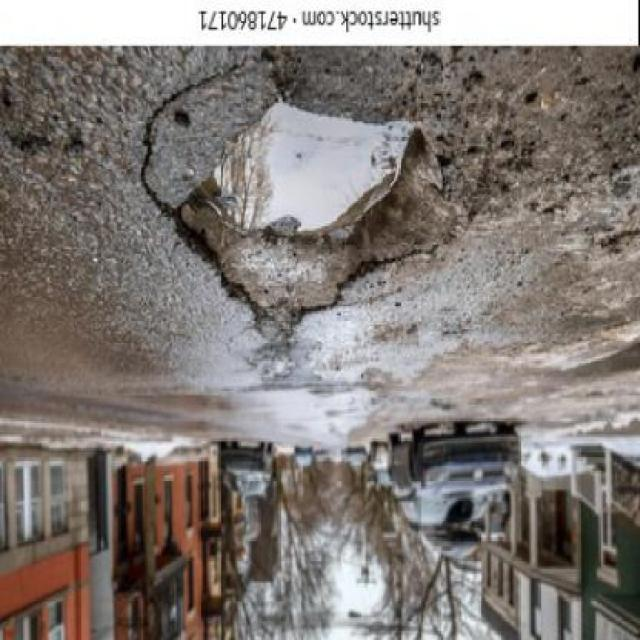Pothole: (179, 102, 454, 327)
